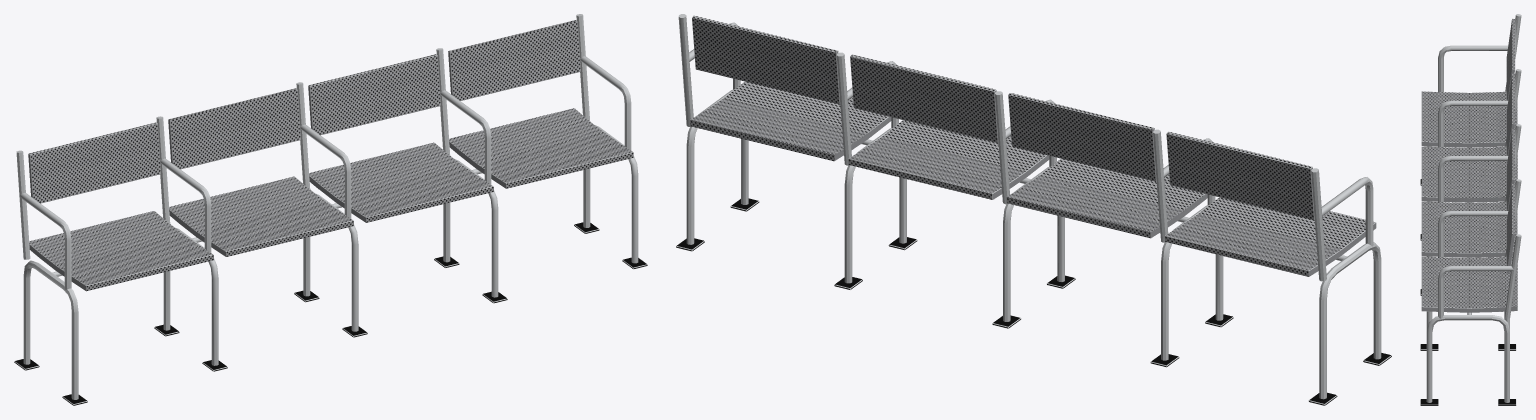
File: gteki_bench_4seat.glb
3 views of the same model, side by side, from view 1: azimuth 30°, elevation 25°; view 2: azimuth 150°, elevation 25°; view 3: azimuth 270°, elevation 25° (orthographic). The views are drawn at different scales.
Parts seen in each view (by area): view 1: VIS_seat, VIS_frame; view 2: VIS_seat, VIS_frame; view 3: VIS_seat, VIS_frame.
Boxes of the visible parts, x1=… form: VIS_seat: x1=28, y1=20, x2=633, y2=291; VIS_frame: x1=14, y1=14, x2=647, y2=405; VIS_seat: x1=690, y1=15, x2=1376, y2=276; VIS_frame: x1=676, y1=14, x2=1391, y2=405; VIS_seat: x1=1421, y1=18, x2=1517, y2=312; VIS_frame: x1=1420, y1=14, x2=1521, y2=405.
Size of what is drawn, in the model's own units: 2.34 by 0.8116 by 0.4424.
Materials: 4 (2 with a texture image).
